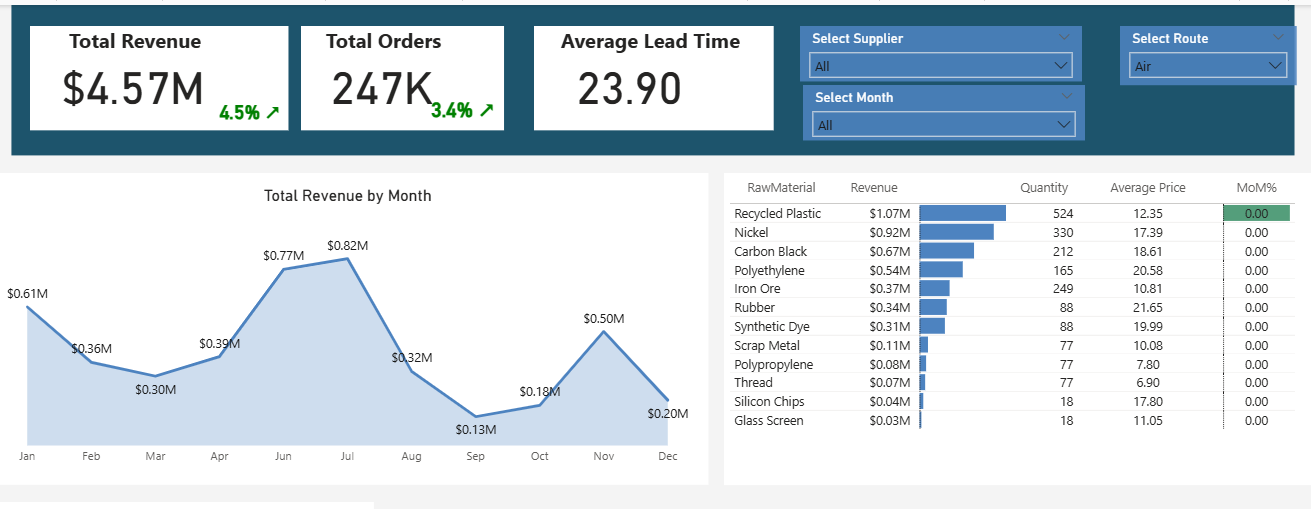

The dashboard page shown, as its layout file describes it:
{"tool":"powerbi","page":{"name":"Page 1","canvas":[1400,900],"ordinal":0},"visuals":[{"type":"card","fields":{"Values":["_Measures.Total Revenue"]},"box":[40.3,10.4,224.5,105.9],"z":0},{"type":"card","fields":{"Values":["_Measures.Total Orders"]},"box":[283.2,10.4,177.3,105.9],"z":1000},{"type":"card","fields":{"Values":["_Measures.Average Delivery"]},"box":[506.6,10.4,183.1,105.9],"z":2000},{"type":"slicer","fields":{"Values":["ps supplychain_summary.SupplierName"]},"box":[812.4,15.6,299.8,58.4],"z":3000},{"type":"slicer","fields":{"Values":["ps supplychain_summary.Route"]},"box":[1193.9,10.4,186.9,63.6],"z":4000},{"type":"tableEx","fields":{"Values":["ps supplychain_summary.RawMaterial","_Measures.Total Revenue","_Measures.Units Sold","Avg(ps supplychain_summary.UnitPrice)"]},"box":[887.7,106.4,512.6,343.9],"z":5000},{"type":"shape","box":[0,145.1,759.1,305.7],"z":6000},{"type":"lineChart","fields":{"Y":["_Measures.Total Revenue"],"Category":["ps supplychain_summary.Month"]},"box":[9.9,158.8,748.1,289.1],"z":7000},{"type":"shape","box":[0,474.1,401.6,371.8],"z":8000},{"type":"barChart","title":"Most Ordered Raw Materials","fields":{"Y":["Sum(ps supplychain_summary.StockQuantity)"],"Category":["ps supplychain_summary.RawMaterial"]},"box":[0,483.2,405.4,356.2],"z":9000},{"type":"shape","box":[421.8,476.3,465.9,369.9],"z":10000},{"type":"clusteredColumnChart","title":"Monthly Orders","fields":{"Y":["Sum(ps supplychain_summary.StockQuantity)"],"Category":["ps supplychain_summary.Month"]},"box":[432.1,503.5,455.5,302.4],"z":11000},{"type":"shape","box":[914.5,489.6,485.8,356.2],"z":12000},{"type":"funnel","title":" Raw Materials by Suppliers","fields":{"Category":["ps supplychain_summary.SupplierName"],"Y":["CountNonNull(ps supplychain_summary.RawMaterial)"]},"box":[914.9,510,485.4,290.7],"z":13000}]}

Visuals, with their boxes on the page's 1400x900 design canvas (x1, y1, x2, y2). These are canvas units, not pixel positions in the 1311x509 screenshot, which may show the page scaled, cropped or inside an application window:
card - _Measures.Total Revenue: 40, 10, 265, 116
card - _Measures.Total Orders: 283, 10, 460, 116
card - _Measures.Average Delivery: 507, 10, 690, 116
slicer - ps supplychain_summary.SupplierName: 812, 16, 1112, 74
slicer - ps supplychain_summary.Route: 1194, 10, 1381, 74
tableEx - ps supplychain_summary.RawMaterial x _Measures.Total Revenue: 888, 106, 1400, 450
shape: 0, 145, 759, 451
lineChart - _Measures.Total Revenue x ps supplychain_summary.Month: 10, 159, 758, 448
shape: 0, 474, 402, 846
"Most Ordered Raw Materials" barChart: 0, 483, 405, 839
shape: 422, 476, 888, 846
"Monthly Orders" clusteredColumnChart: 432, 504, 888, 806
shape: 914, 490, 1400, 846
" Raw Materials by Suppliers" funnel: 915, 510, 1400, 801
